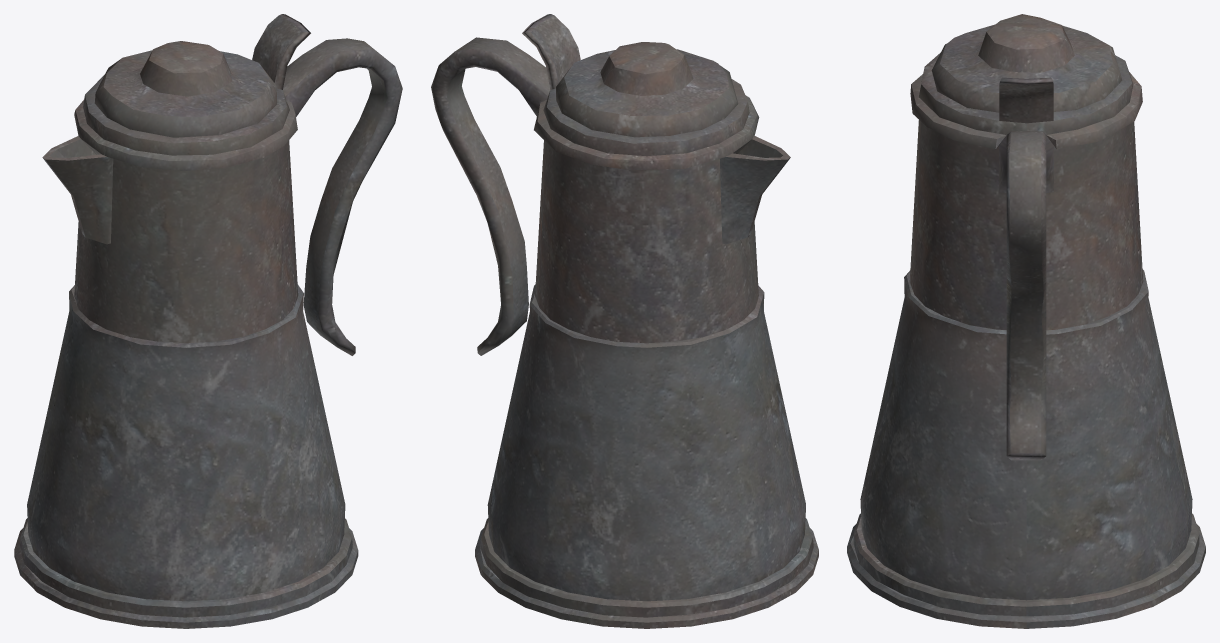
File: SM_Flagon_01.fbx
The picture shows the model from 3 angles, left to right: view 1: azimuth 30°, elevation 25°; view 2: azimuth 150°, elevation 25°; view 3: azimuth 270°, elevation 25°; orthographic projection. The views are drawn at different scales.
Parts seen in each view (by area): view 1: SM_Flagon_01_LOD0; view 2: SM_Flagon_01_LOD0; view 3: SM_Flagon_01_LOD0.
Part boxes in pixels (x1,y1,x2,y2): SM_Flagon_01_LOD0: [14, 14, 402, 628]; SM_Flagon_01_LOD0: [431, 14, 818, 628]; SM_Flagon_01_LOD0: [847, 14, 1205, 628].
Bounding box in the file's own units: 22.16 × 18.45 × 30.
